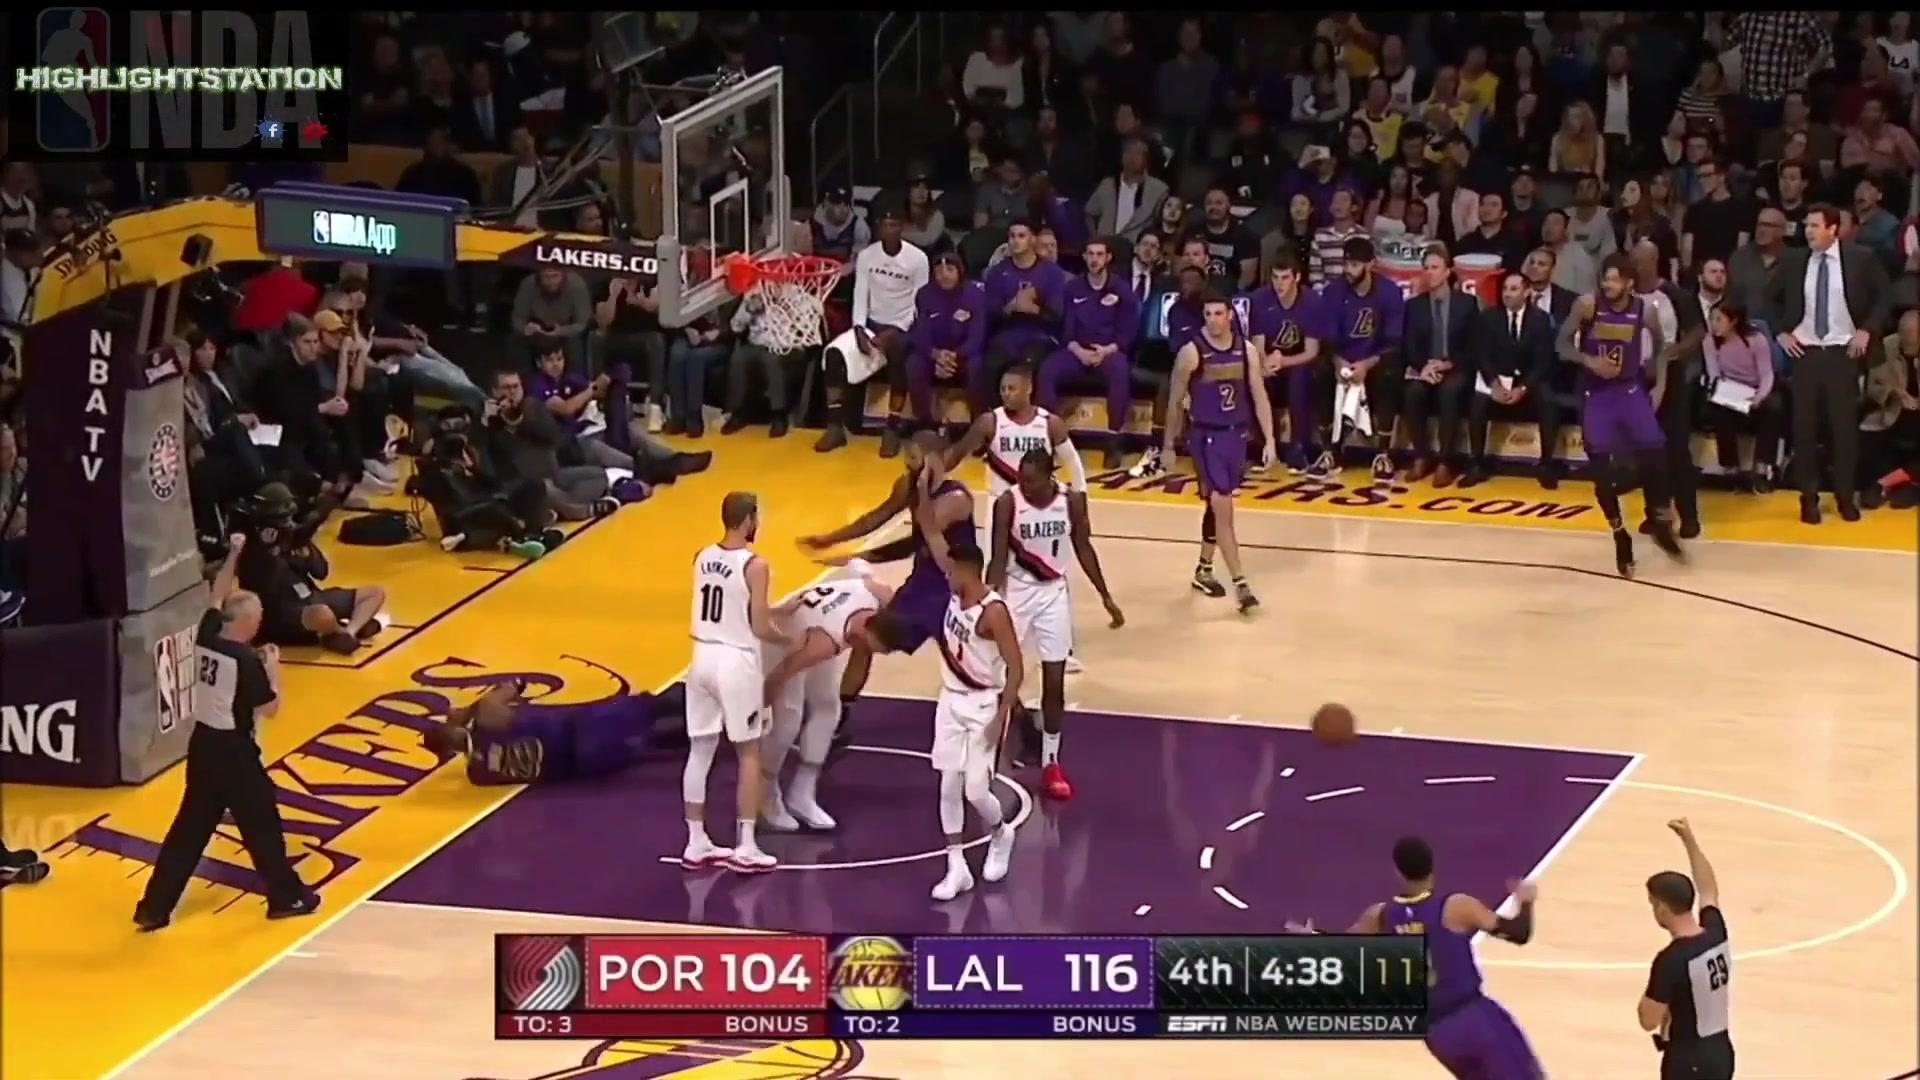no_foul: (748, 418, 969, 837)
